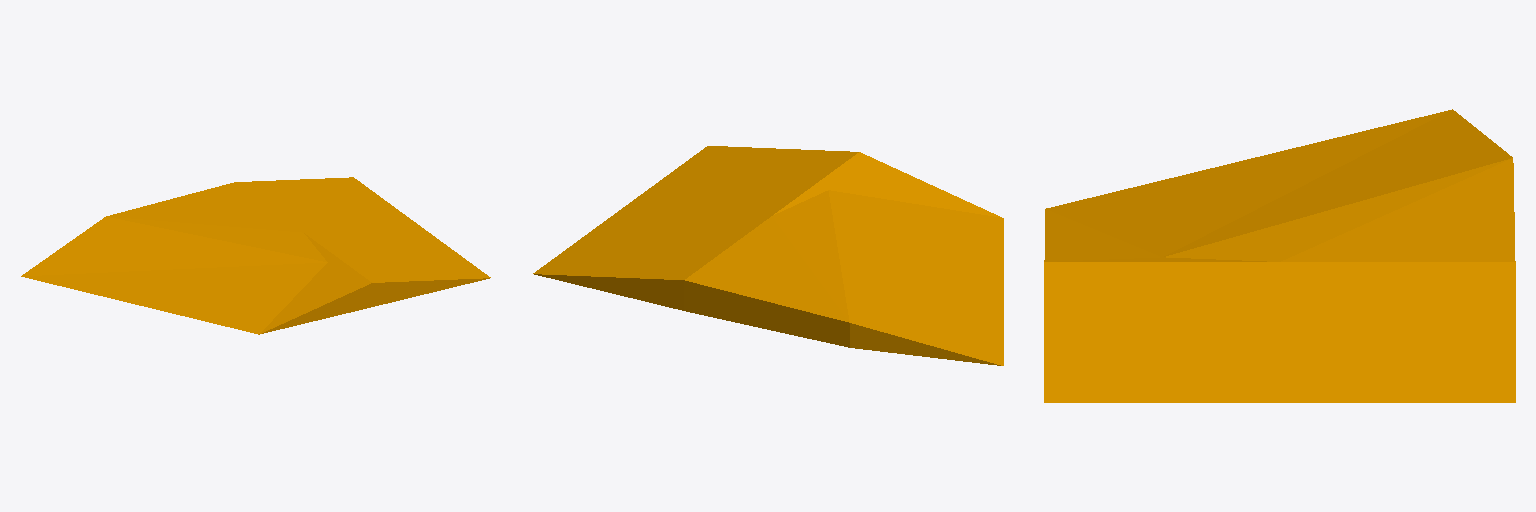
URDF robot description (block4_9_11):
<?xml version="1.0" ?>
<robot name="block4_9_11">
  <link name="block4_9_11__link_0">
    <inertial>
      <mass value="1"/>
      <origin rpy="0     0     1.5708" xyz="0 0 0"/>
      <inertia ixx="0.166667" ixy="0" ixz="0" iyy="0.166667" iyz="0" izz="0.166667"/>
    </inertial>
    <collision name="block4_9_11__collision">
      <origin rpy="0     0     1.5708" xyz="0 0 0"/>
      <geometry>
        <mesh filename="package://block4_9_11/block4_9_11.stl" scale="1 1 1"/>
      </geometry>
    </collision>
    <visual name="block4_9_11__visual">
      <origin rpy="0     0     1.5708" xyz="0 0 0"/>
      <geometry>
        <mesh filename="package://block4_9_11/block4_9_11.stl" scale="1 1 1"/>
      </geometry>
    </visual>
  </link>
</robot>

--- Render facts (derived) ---
The picture shows the robot from 3 angles, left to right: view 1: azimuth 30°, elevation 25°; view 2: azimuth 150°, elevation 25°; view 3: azimuth 270°, elevation 25°; orthographic projection.
Model block4_9_11 with 1 links and 0 joints (none), rooted at block4_9_11__link_0, posed every joint at zero.
Visible links, largest first — view 1: block4_9_11__link_0; view 2: block4_9_11__link_0; view 3: block4_9_11__link_0.
Boxes of the visible links, <box> form: block4_9_11__link_0: <box>21,177,490,334</box>; block4_9_11__link_0: <box>533,146,1003,365</box>; block4_9_11__link_0: <box>1044,109,1515,402</box>.
Size in the robot's own frame: 4.43 by 3.01 by 0.291 metres.
Meshes: 1 distinct files referenced, 1 mesh visuals loaded (1 binary STL).